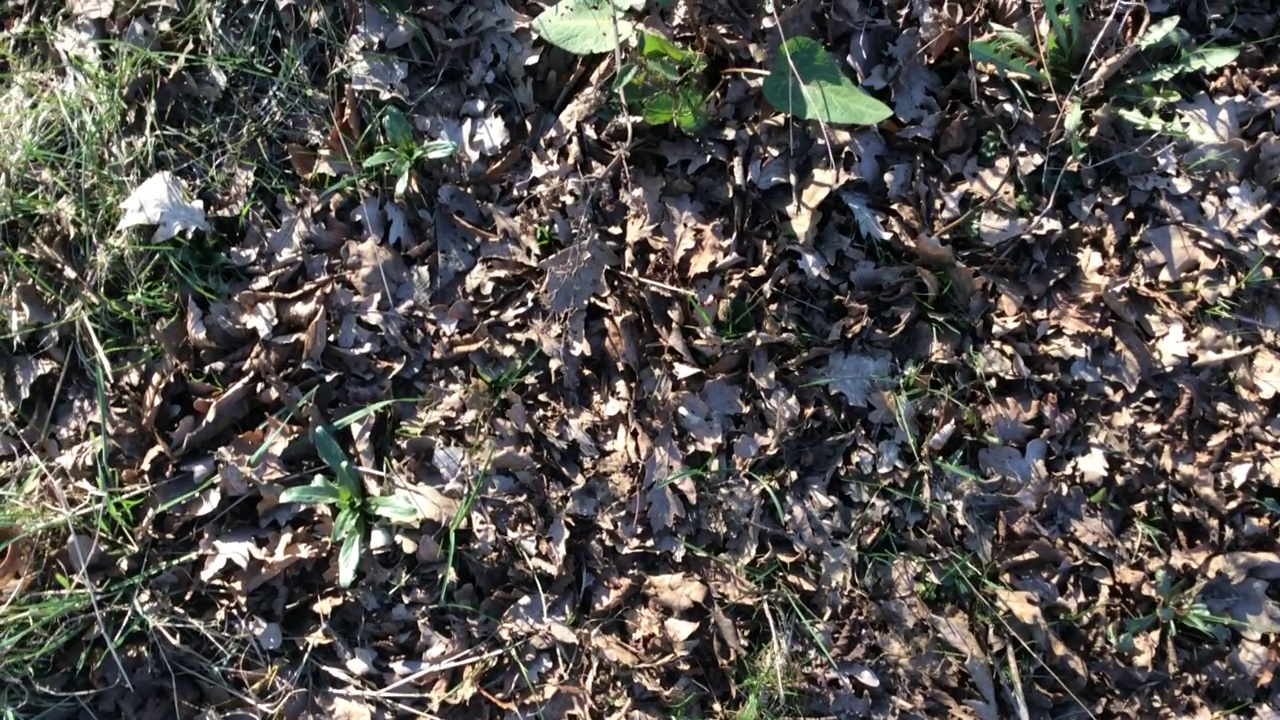rumex: (529, 1, 895, 128)
